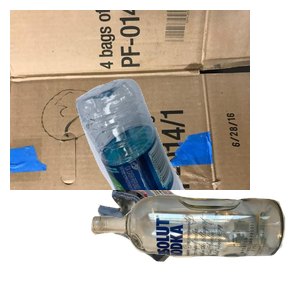cardboard: (10, 10, 250, 190)
glass: (88, 192, 300, 300)
plastic: (73, 76, 300, 256)
trash: (95, 157, 282, 300)
